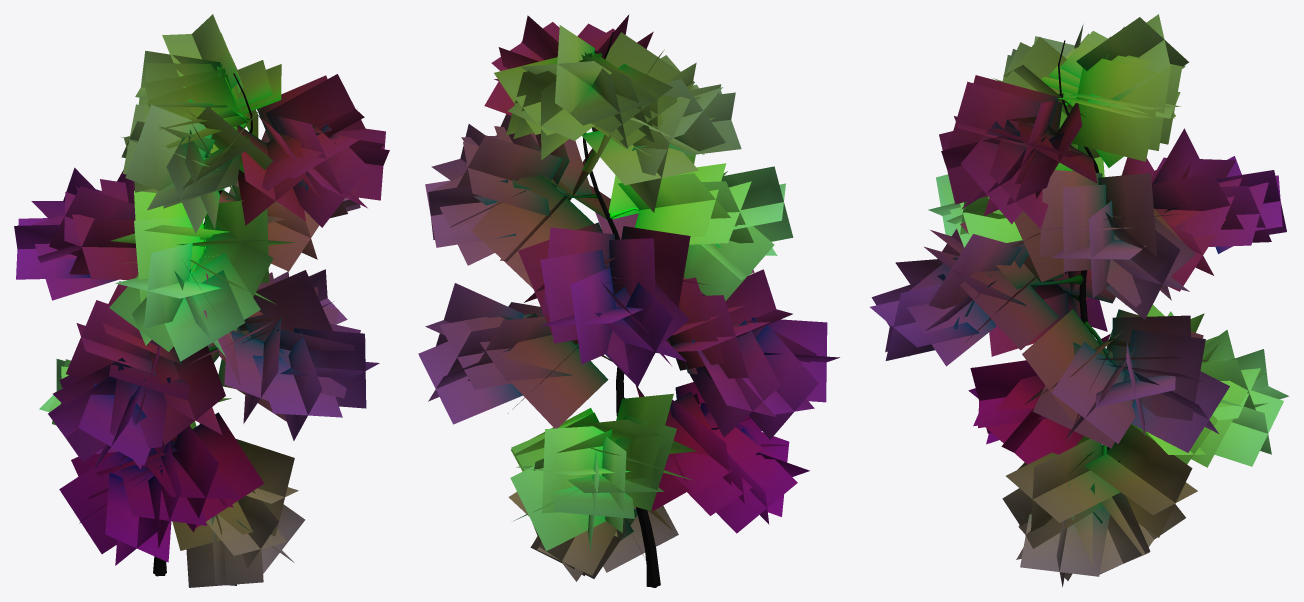
The model's file is URP_P14_Tree_4_LOD_0.fbx.
3 renders of one model, left to right at view 1: azimuth 30°, elevation 25°; view 2: azimuth 150°, elevation 25°; view 3: azimuth 270°, elevation 25°, orthographic. The views are drawn at different scales.
Parts seen in each view (by area): view 1: Tree_4_LOD_0; view 2: Tree_4_LOD_0; view 3: Tree_4_LOD_0.
Boxes of the visible parts, x1,y1,x2,y2 form: Tree_4_LOD_0: (14, 14, 389, 587); Tree_4_LOD_0: (418, 14, 839, 587); Tree_4_LOD_0: (870, 14, 1288, 586).
Size of the model in its own units: 437 by 679 by 454.
